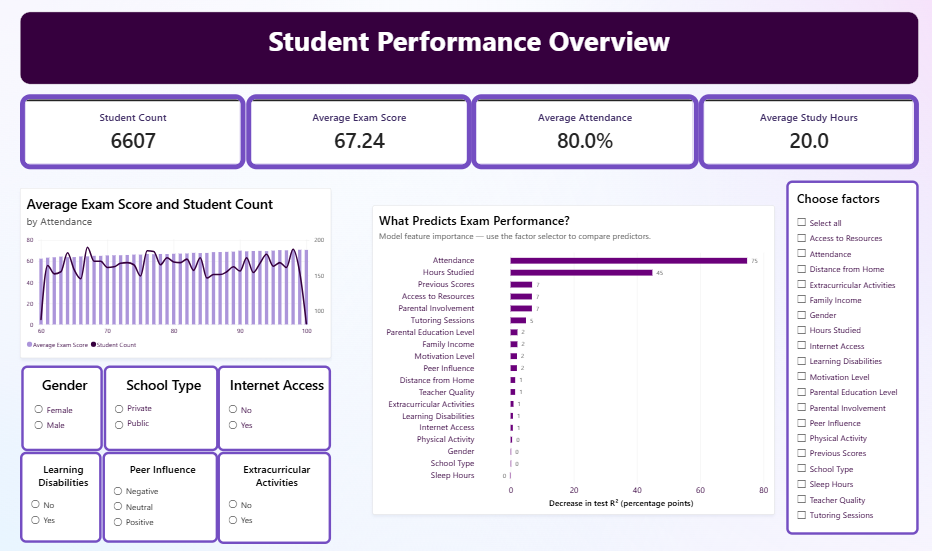

Layout of this report page (visuals, bound fields, positions):
{"tool":"powerbi","page":{"name":"Overview","canvas":[1920,1080],"ordinal":0},"visuals":[{"type":"cardVisual","fields":{"Data":["Students.Student Count"]},"box":[78.9,188.9,440.2,146.7],"z":0},{"type":"cardVisual","fields":{"Data":["Students.Average Exam Score"]},"box":[519.1,188.9,440.2,146.7],"z":1000},{"type":"cardVisual","fields":{"Data":["Students.Average Attendance"]},"box":[959.3,188.9,443.9,146.7],"z":2000},{"type":"cardVisual","fields":{"Data":["Students.Average Study Hours"]},"box":[1403.2,188.9,429.2,146.7],"z":3000},{"type":"lineClusteredColumnComboChart","fields":{"Category":["Students.Attendance"],"Y":["Students.Average Exam Score"],"Y2":["Students.Student Count"]},"box":[78,353.7,607.3,348.8],"z":5000},{"type":"listSlicer","fields":{"Values":["Students.Gender"]},"box":[80.7,717.2,159.6,166.9],"z":6000},{"type":"listSlicer","title":"School Type","fields":{"Values":["Students.School_Type"]},"box":[240.3,717.2,223.8,166.9],"z":7000},{"type":"textbox","box":[78.9,25.7,1753.5,141.2],"z":7002},{"type":"clusteredBarChart","title":"What Predicts Exam Performance?","fields":{"Category":["ml_feature_importance.Factor_Label"],"Y":["ml_feature_importance.Importance (percentage points)"]},"box":[765.9,353.7,782.9,709.8],"z":7003},{"type":"listSlicer","title":"Choose factors","fields":{"Values":["ml_feature_importance.Factor_Label"]},"box":[1573.2,353.7,258.5,709.8],"z":7004},{"type":"listSlicer","title":"Internet Access","fields":{"Values":["Students.Internet_Access"]},"box":[464.1,717.2,221.9,166.9],"z":7005},{"type":"listSlicer","title":"Peer Influence","fields":{"Values":["Students.Peer_Influence"]},"box":[238.5,885.9,225.6,177.9],"z":7006},{"type":"listSlicer","title":"Learning Disabilities","fields":{"Values":["Students.Learning_Disabilities"]},"box":[78.9,885.9,159.6,177.9],"z":7007},{"type":"listSlicer","title":"Extracurricular Activities","fields":{"Values":["Students.Extracurricular_Activities"]},"box":[464.1,885.9,221.9,179.8],"z":7008}]}

Visuals, with their boxes in screenshot pixels (x1, y1, x2, y2):
cardVisual - Students.Student Count: left=16, top=92, right=243, bottom=168
cardVisual - Students.Average Exam Score: left=243, top=92, right=469, bottom=168
cardVisual - Students.Average Attendance: left=469, top=92, right=698, bottom=168
cardVisual - Students.Average Study Hours: left=698, top=92, right=919, bottom=168
lineClusteredColumnComboChart - Students.Attendance x Students.Average Exam Score: left=16, top=177, right=328, bottom=357
listSlicer - Students.Gender: left=17, top=364, right=99, bottom=450
"School Type" listSlicer: left=99, top=364, right=215, bottom=450
textbox: left=16, top=8, right=919, bottom=81
"What Predicts Exam Performance?" clusteredBarChart: left=370, top=177, right=773, bottom=542
"Choose factors" listSlicer: left=785, top=177, right=918, bottom=542
"Internet Access" listSlicer: left=215, top=364, right=329, bottom=450
"Peer Influence" listSlicer: left=98, top=451, right=215, bottom=543
"Learning Disabilities" listSlicer: left=16, top=451, right=98, bottom=543
"Extracurricular Activities" listSlicer: left=215, top=451, right=329, bottom=543
